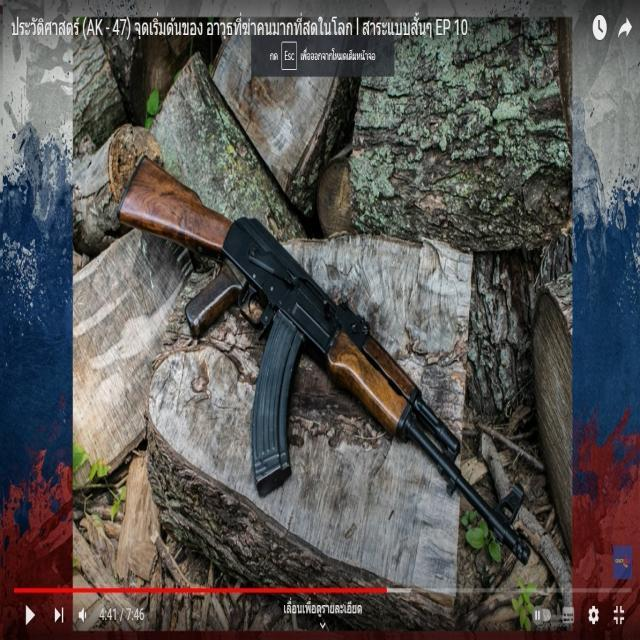ak: (119, 153, 536, 570)
